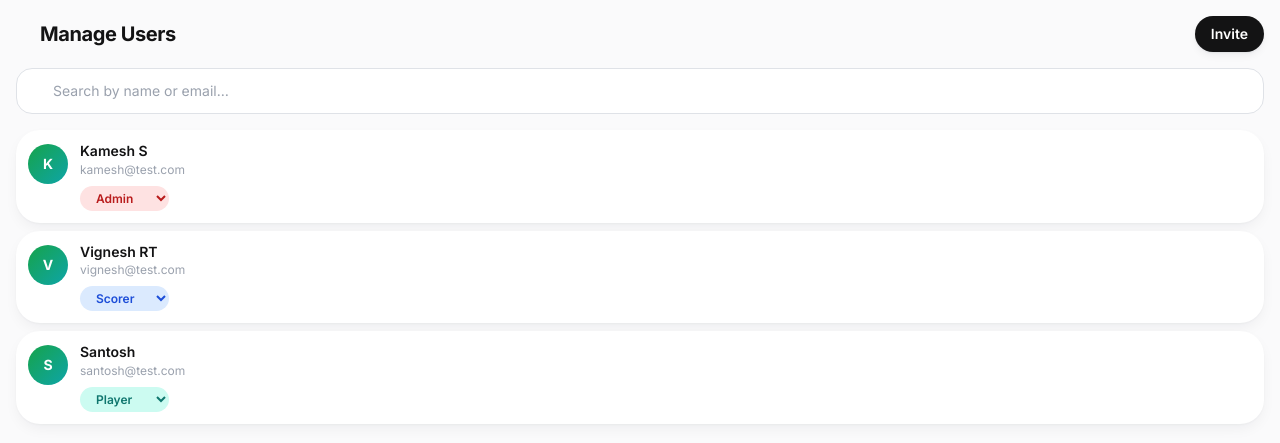
Test: AdminUsers — search filter › filters by name (case-insensitive)
In the field with placeholder "Search by name or email…": (640, 91) [16,68,1264,114], type "vign"
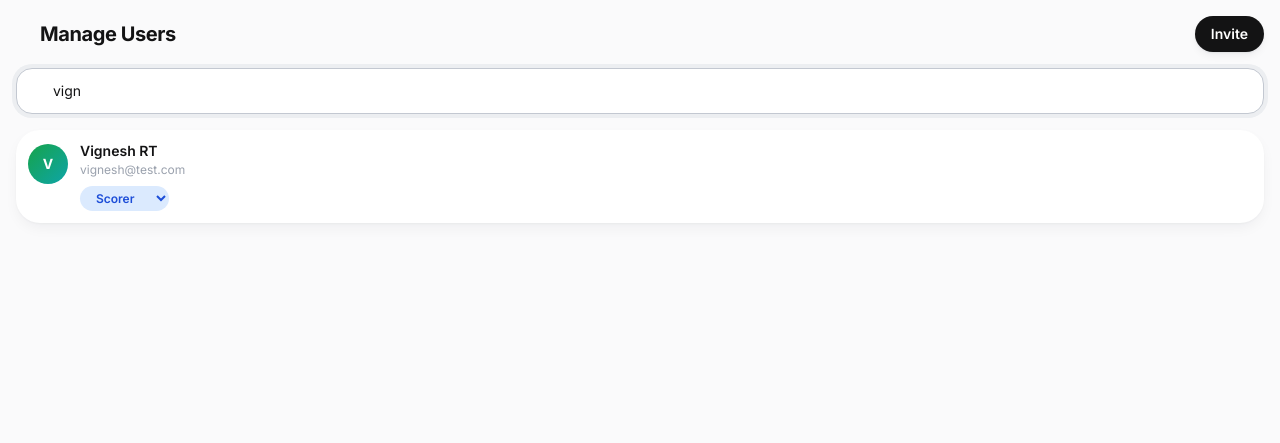
Check: the text "Vignesh RT" is shown, box [80,142,158,159]
Check: the text "Kamesh S" is gone
Check: the text "Santosh" is gone
